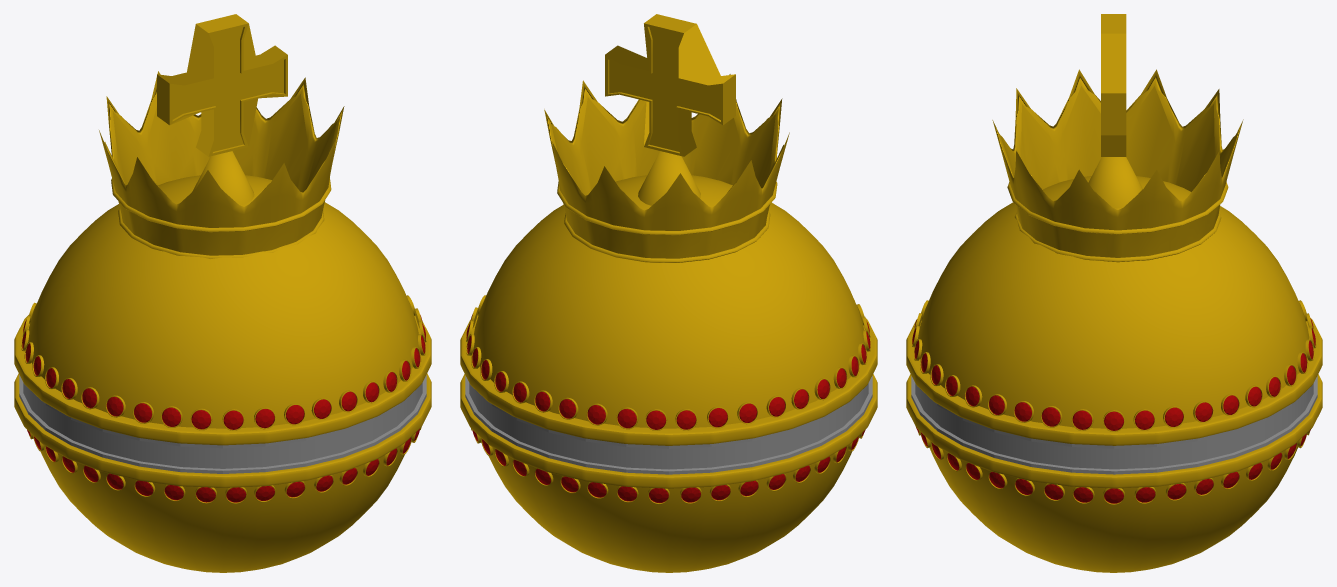
Rendered from Orb.fbx.
3 renders of one model, left to right at view 1: azimuth 30°, elevation 25°; view 2: azimuth 150°, elevation 25°; view 3: azimuth 270°, elevation 25°, orthographic.
Visible parts, largest first — view 1: polySurface223; view 2: polySurface223; view 3: polySurface223.
Part boxes in pixels (left/top/right/bottom): polySurface223: left=14, top=14, right=431, bottom=572; polySurface223: left=460, top=14, right=877, bottom=572; polySurface223: left=906, top=14, right=1322, bottom=572.
Size of the model in its own units: 0.7025 by 0.9815 by 0.6991.
